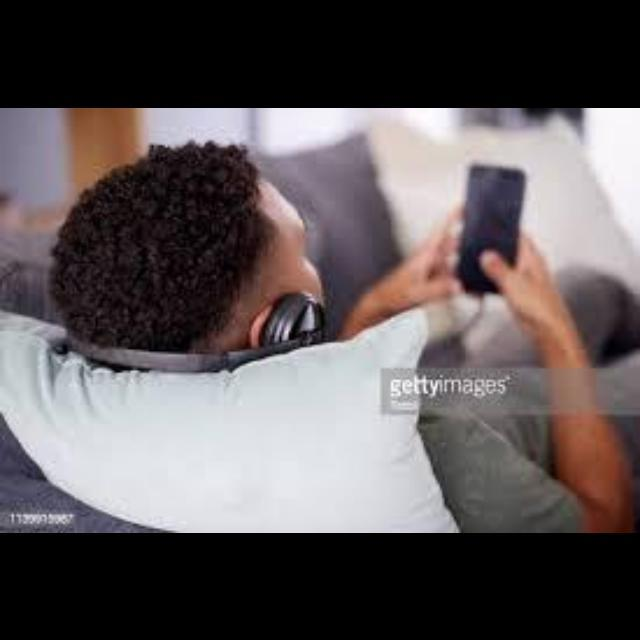Phone: (456, 164, 526, 292)
